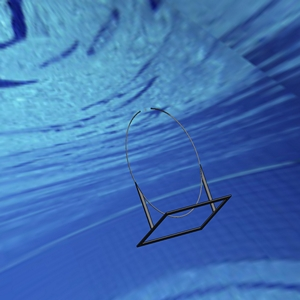circle: (123, 105, 230, 246)
